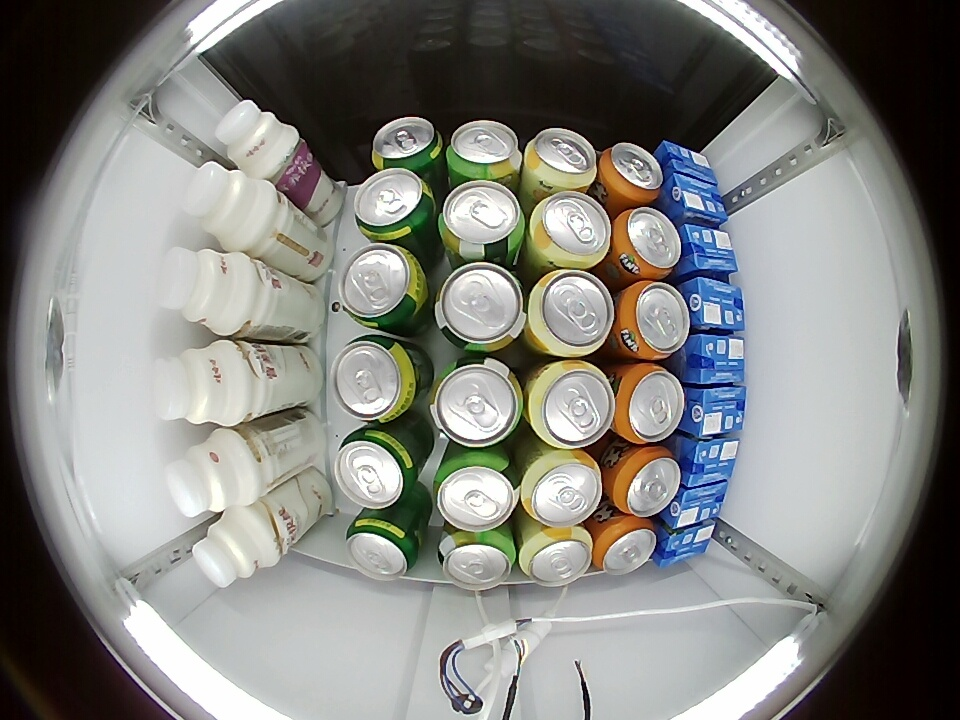fenda: (614, 364, 685, 444), (618, 281, 689, 360), (611, 446, 681, 518), (613, 207, 682, 279), (599, 142, 664, 204), (593, 517, 657, 575)
mangguoxiaolao: (527, 360, 615, 449), (527, 270, 615, 358), (520, 450, 603, 527), (529, 192, 612, 269), (524, 128, 598, 190), (519, 527, 593, 587)
quchenshixiangcao: (431, 356, 525, 448), (434, 262, 527, 353), (432, 451, 519, 532), (438, 181, 525, 261), (437, 531, 516, 591), (447, 120, 521, 179)
weitanai: (683, 277, 746, 334), (683, 385, 747, 439), (664, 174, 729, 227), (663, 479, 729, 529), (683, 334, 746, 386), (679, 223, 739, 277), (679, 437, 741, 487), (657, 141, 718, 190), (655, 520, 716, 567)
xuebi2: (331, 334, 426, 423), (336, 244, 429, 330), (335, 426, 423, 509), (354, 168, 437, 243), (345, 512, 424, 580), (372, 116, 446, 173)
yingyangkuaixian: (157, 247, 253, 337), (151, 341, 250, 426), (182, 163, 276, 251), (165, 429, 259, 517), (192, 506, 279, 588), (215, 100, 300, 177)
